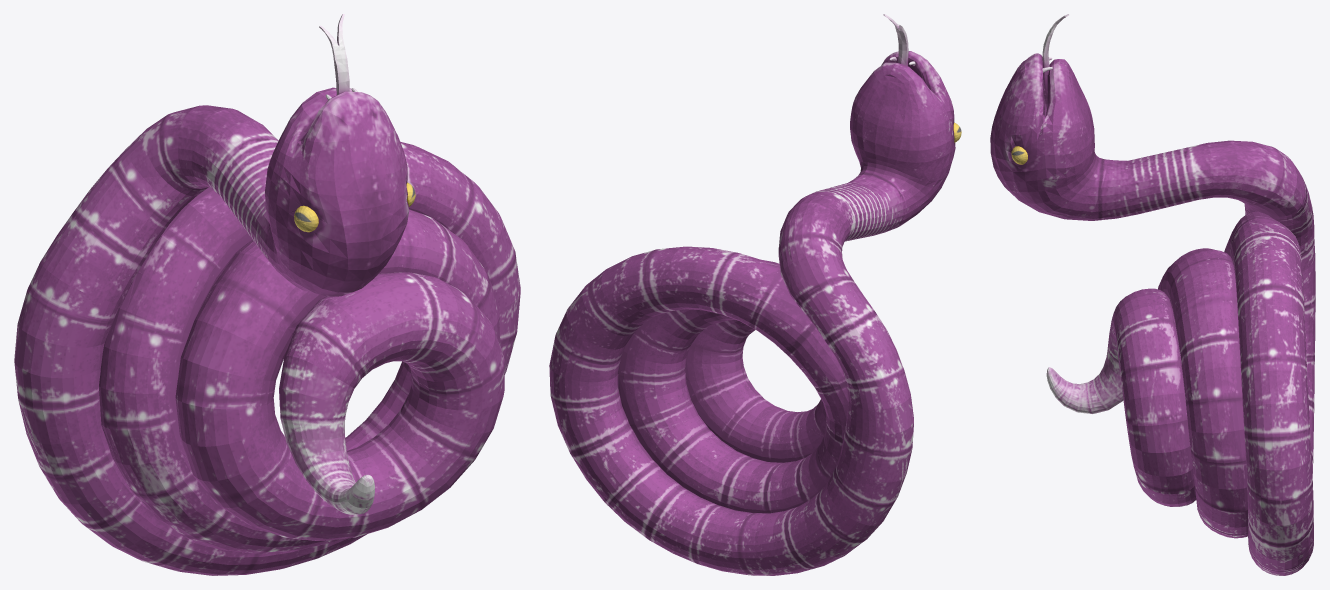
File: snake_female.obj
3 views of the same model, side by side, from view 1: azimuth 30°, elevation 25°; view 2: azimuth 150°, elevation 25°; view 3: azimuth 270°, elevation 25° (orthographic). The views are drawn at different scales.
Parts seen in each view (by area): view 1: Object.1; view 2: Object.1; view 3: Object.1.
Boxes of the visible parts, x1,y1,x2,y2 form: Object.1: [14, 14, 520, 575]; Object.1: [549, 14, 961, 575]; Object.1: [990, 14, 1315, 575].
Bounding box in the file's own units: 10 × 13.08 × 7.54.
Materials: 1 (1 with a texture image).
